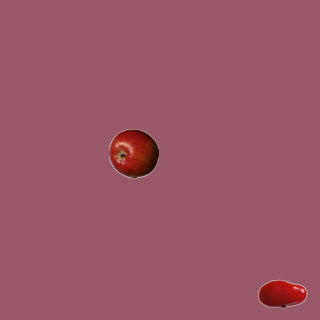Apple Braeburn: (108, 128, 158, 178)
Tomato 2: (257, 268, 307, 318)
